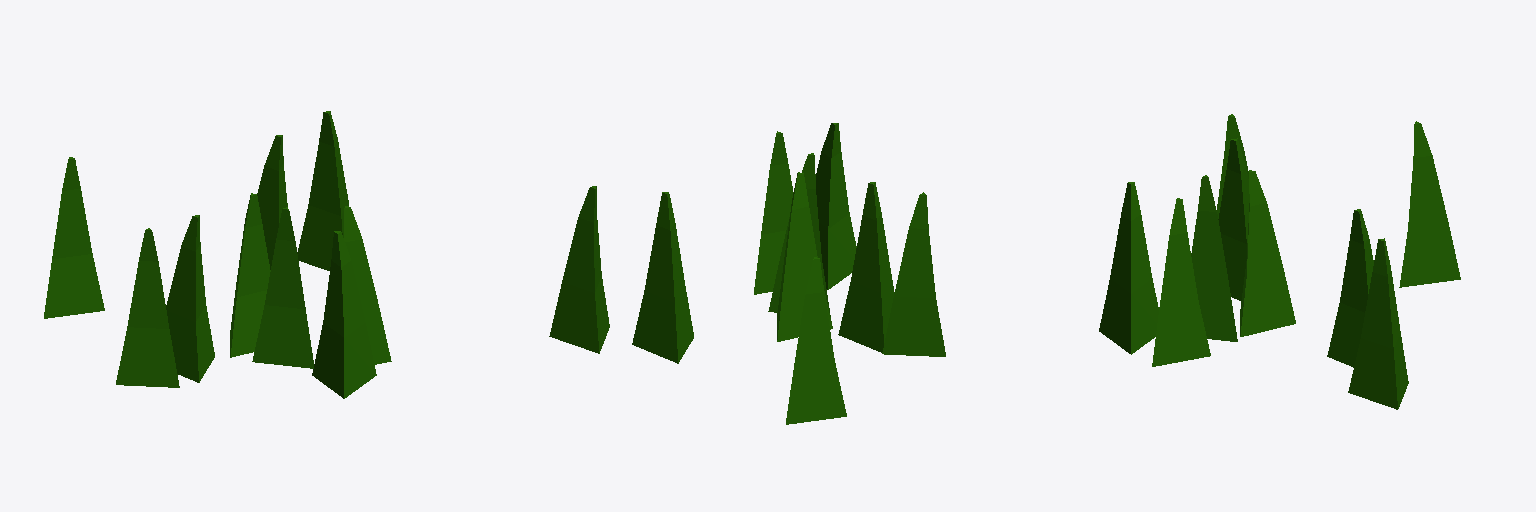
File: Bushes.obj
The picture shows the model from 3 angles: view 1: azimuth 30°, elevation 25°; view 2: azimuth 150°, elevation 25°; view 3: azimuth 270°, elevation 25°; orthographic projection.
Parts seen in each view (by area): view 1: Cylinder_010, Cylinder_003, Cylinder_008, Cylinder_006, Cylinder_005, Cylinder_004, Cylinder_007, Cylinder_009, Cylinder_002; view 2: Cylinder_002, Cylinder_003, Cylinder_004, Cylinder_006, Cylinder_005, Cylinder_010, Cylinder_007, Cylinder_009, Cylinder_008; view 3: Cylinder_010, Cylinder_004, Cylinder_006, Cylinder_009, Cylinder_007, Cylinder_008, Cylinder_002, Cylinder_005, Cylinder_003.
Part boxes in pixels (x1,y1,x2,y2): Cylinder_010: (312,231,376,398); Cylinder_003: (116,228,179,387); Cylinder_008: (252,207,313,368); Cylinder_006: (44,157,104,318); Cylinder_005: (166,215,214,382); Cylinder_004: (297,111,348,270); Cylinder_007: (230,193,270,357); Cylinder_009: (344,206,391,364); Cylinder_002: (257,135,287,269); Cylinder_002: (632,192,693,363); Cylinder_003: (882,192,945,356); Cylinder_004: (549,186,609,353); Cylinder_006: (786,257,846,424); Cylinder_005: (838,182,894,352); Cylinder_010: (816,123,856,289); Cylinder_007: (777,172,832,341); Cylinder_009: (754,131,793,294); Cylinder_008: (768,153,830,316); Cylinder_010: (1099,182,1158,354); Cylinder_004: (1348,238,1408,409); Cylinder_006: (1399,121,1460,287); Cylinder_009: (1152,198,1210,366); Cylinder_007: (1240,170,1295,336); Cylinder_008: (1191,175,1237,341); Cylinder_002: (1327,209,1373,367); Cylinder_005: (1218,138,1249,300); Cylinder_003: (1217,114,1248,218).
Size of the model in its own units: 4.46 by 2.04 by 4.39.